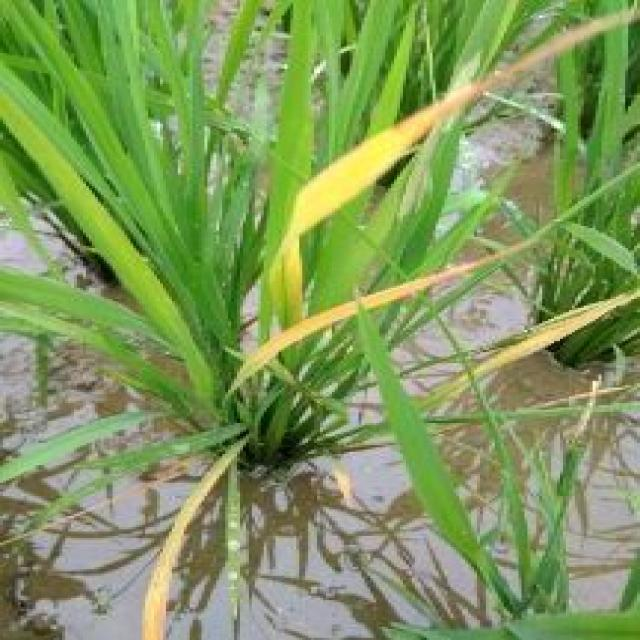Tungro: (194, 250, 556, 378), (255, 79, 514, 233), (136, 427, 268, 640), (470, 287, 640, 389)
